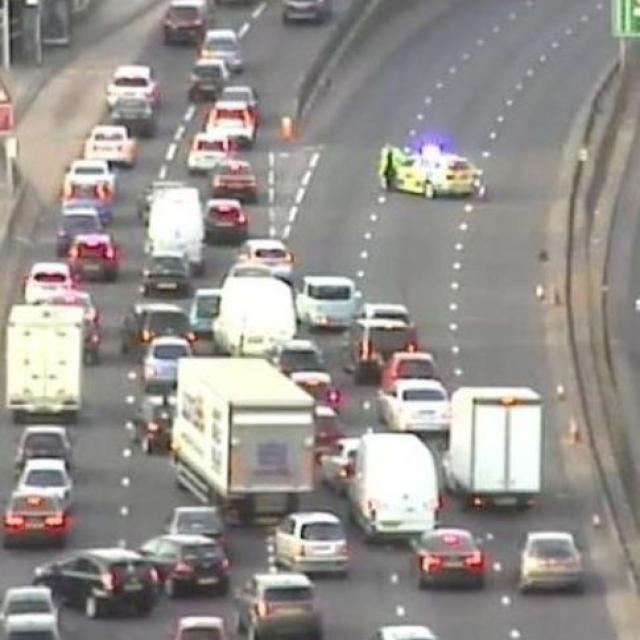traffic_incident: (115, 248, 401, 471)
